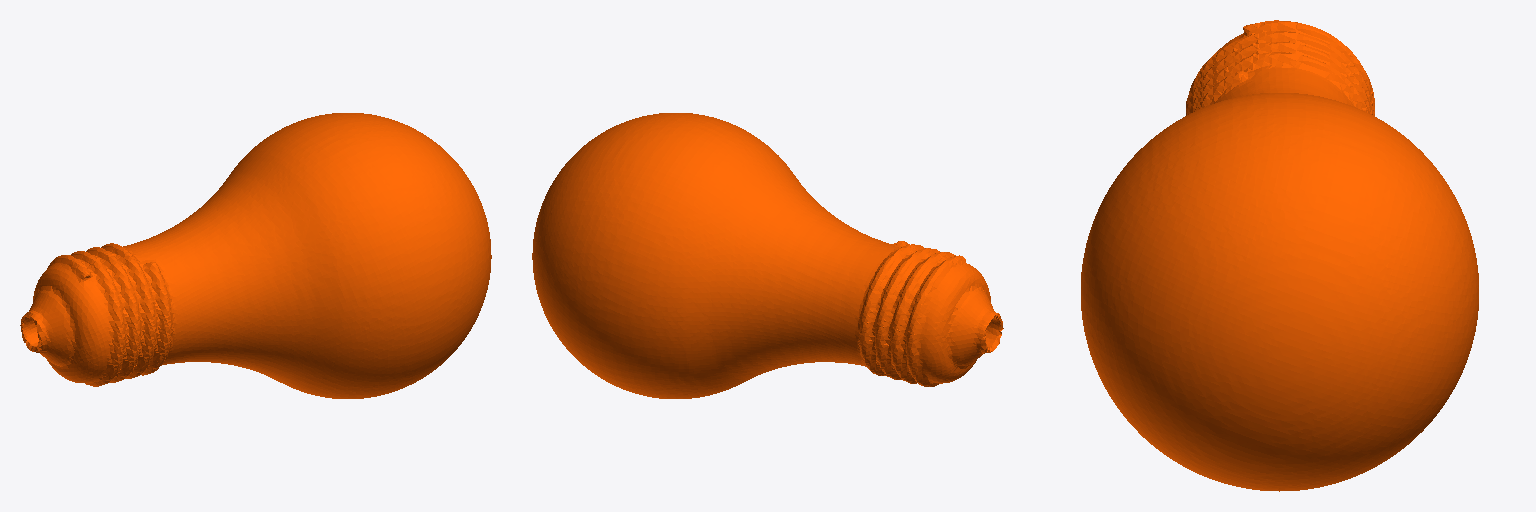
URDF robot description (lightbulb):
<?xml version="1.0" ?>
<robot name="lightbulb">
   <material name="obj_color">
      <color rgba="1.0 0.423529411765 0.0392156862745 1.0"/>
   </material>
   <link name="top">
      <inertial>
         <origin rpy="0.0001019890849235469 0.0002239423070790241 0.0002239440020776721" xyz="0.01450822548492873 6.259451225934135e-06 1.109221345949526e-05"/>
         <mass value="0.307026239646298"/>
         <inertia ixx="0.000101989302289195" ixy="1.356999001461054e-07" ixz="8.996662467485416e-08" iyy="0.0002239433717537464" iyz="-8.634592608254725e-10" izz="0.0002239427200373016"/>
      </inertial>
      <visual>
         <origin rpy="0 0 0" xyz="0 0 0"/>
         <geometry>
            <mesh filename="top_watertight_tiny.stl" scale="1 1 1"/>
         </geometry>
         <material name="obj_color"/>
      </visual>
      <collision>
         <origin rpy="0 0 0" xyz="0 0 0"/>
         <geometry>
            <mesh filename="top_watertight_tiny.obj" scale="1 1 1"/>
         </geometry>
      </collision>
   </link>
   <link name="bottom">
      <inertial>
         <origin rpy="1.633333333194242e-08 1.633333333194243e-08 1.633333333357667e-08" xyz="0.3464080000000008 0.3464080000000008 0.3464080000000008"/>
         <mass value="0.0009800000000000017"/>
         <inertia ixx="1.633333333248717e-08" ixy="5.447480642029219e-19" ixz="5.447480642029219e-19" iyy="1.633333333248717e-08" iyz="5.447480642029219e-19" izz="1.633333333248717e-08"/>
      </inertial>
      <visual>
         <origin rpy="0 0 0" xyz="0 0 0"/>
         <geometry>
            <mesh filename="bottom_watertight_tiny.stl" scale="1 1 1"/>
         </geometry>
         <material name="obj_color"/>
      </visual>
   </link>
   <link name="world"/>
   <joint name="world_to_base" type="fixed">
      <origin xyz="0 0 0"/>
      <axis xyz="0 0 0"/>
      <parent link="world"/>
      <child link="bottom"/>
   </joint>
   <joint name="rotation" type="revolute">
      <origin xyz="0 0 0"/>
      <axis xyz="0 0 -1"/>
      <parent link="bottom"/>
      <child link="top"/>
      <dynamics damping="1.0" friction="1.0"/>
      <limit effort="0.1" velocity="0.1" lower="0" upper="0.001"/>
   </joint>
</robot>

--- Facts derived from the render (not from the file) ---
The picture shows the robot from 3 angles, left to right: view 1: azimuth 30°, elevation 25°; view 2: azimuth 150°, elevation 25°; view 3: azimuth 270°, elevation 25°; orthographic projection.
Model lightbulb with 3 links and 2 joints (1 revolute, 1 fixed), rooted at world, posed every joint at zero.
Links seen in each view (by area): view 1: top; view 2: top; view 3: top.
Link boxes in pixels (x1,y1,x2,y2): top: (20,113,491,398); top: (532,113,1003,398); top: (1081,20,1478,491).
Size in the robot's own frame: 0.1105 by 0.062 by 0.062 metres.
Meshes: 2 distinct files referenced, 1 mesh visuals loaded (1 binary STL); not drawn: 1 (reference not matched to a file when rendering).
